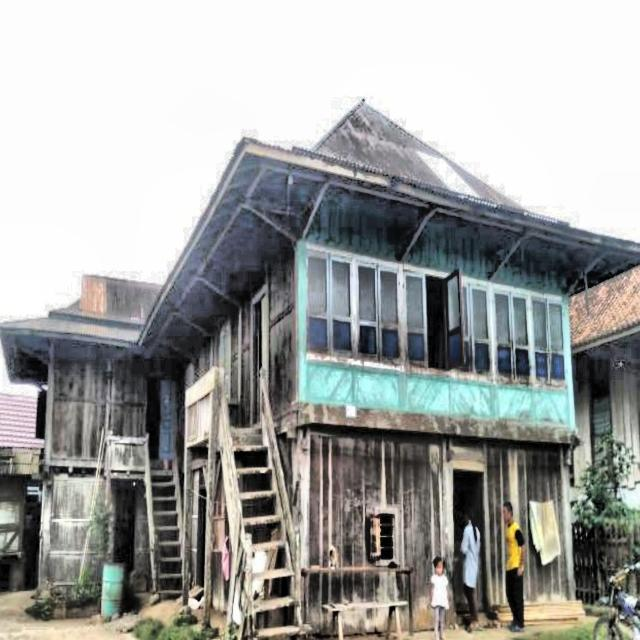door: (145, 378, 175, 461), (253, 295, 267, 424)
roof: (0, 99, 640, 383), (570, 263, 639, 353)
stair: (218, 368, 301, 638), (145, 432, 183, 593)
wall: (306, 244, 570, 427), (309, 428, 449, 629), (51, 347, 179, 459), (484, 441, 570, 604), (240, 230, 296, 427)
window: (403, 266, 465, 370), (306, 249, 353, 358), (355, 259, 400, 365), (493, 288, 531, 378), (455, 283, 492, 373), (532, 300, 565, 380), (590, 372, 612, 461), (369, 512, 395, 561), (218, 321, 231, 399), (36, 389, 47, 438)
